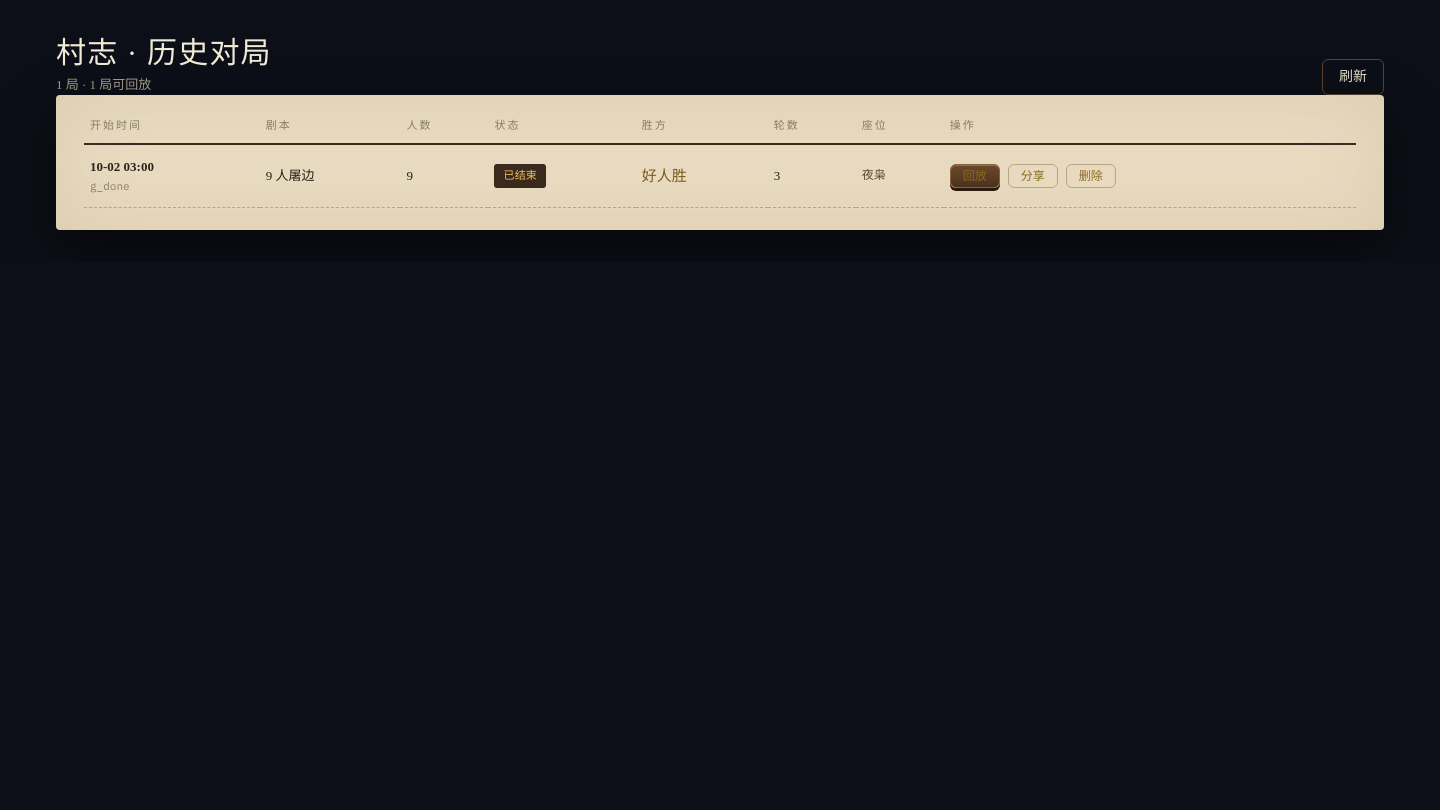
History 删除 › 取消不发请求
Check: the text "g_done" is shown, box [90,179,130,193]
Click the button "删除": (1091, 176) [1066,164,1116,188]
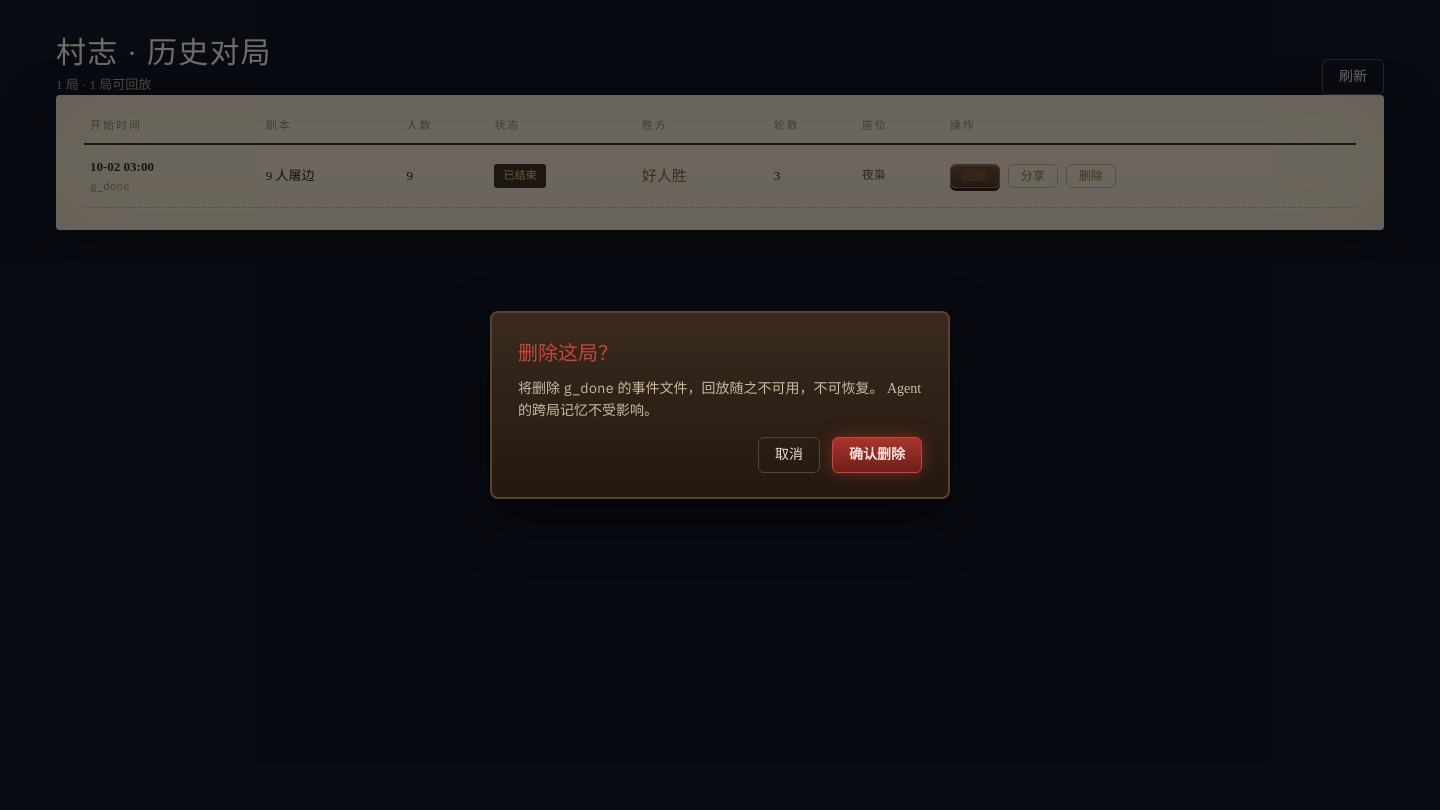
Click the button "取消": (789, 455) [758,437,820,474]
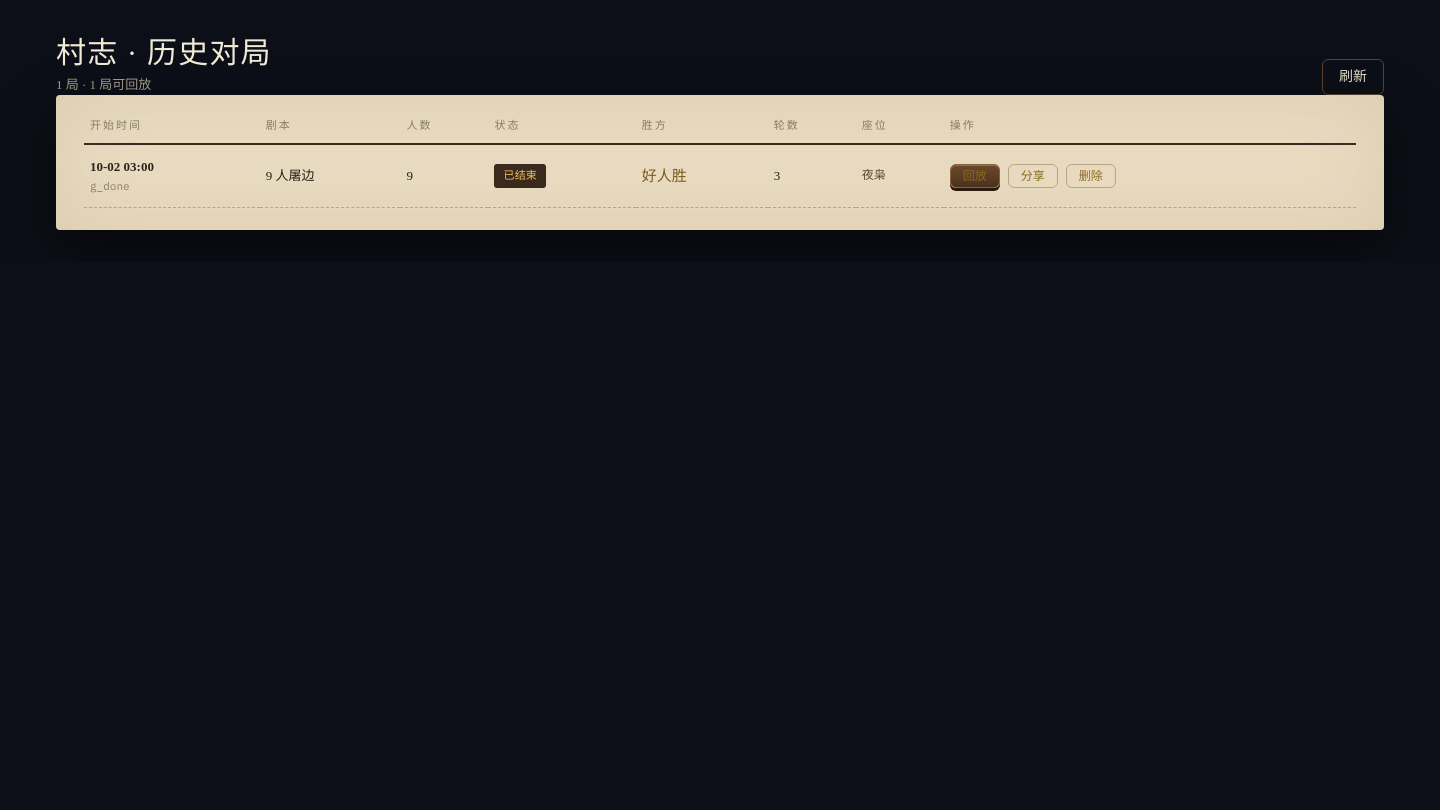
Check: the text "g_done" is shown, box [90,179,130,193]
Check: the dialog is gone
